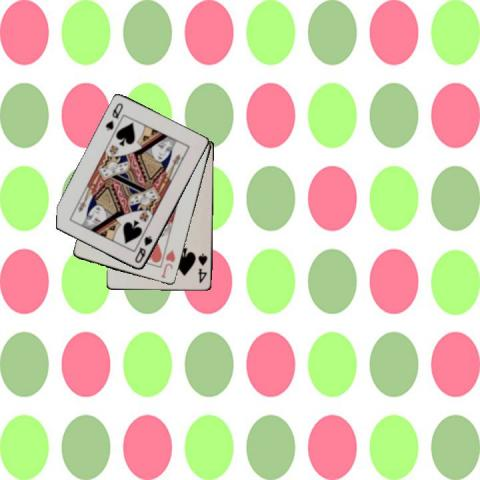4s: (195, 250, 209, 284)
Jh: (158, 247, 177, 280)
Qs: (132, 233, 154, 265), (102, 100, 124, 132)
